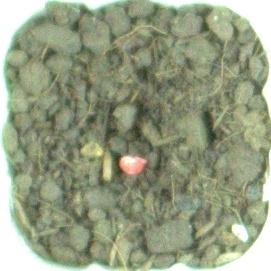pepper seed: (42, 64, 192, 242)
